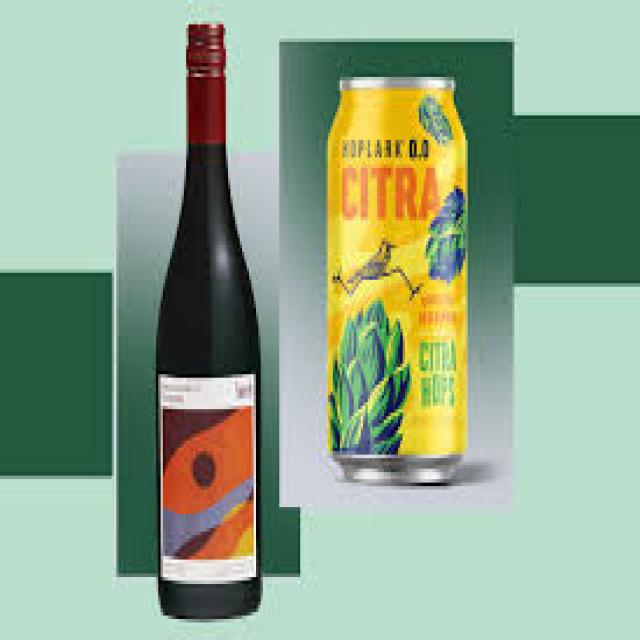Cans: (316, 59, 482, 497)
